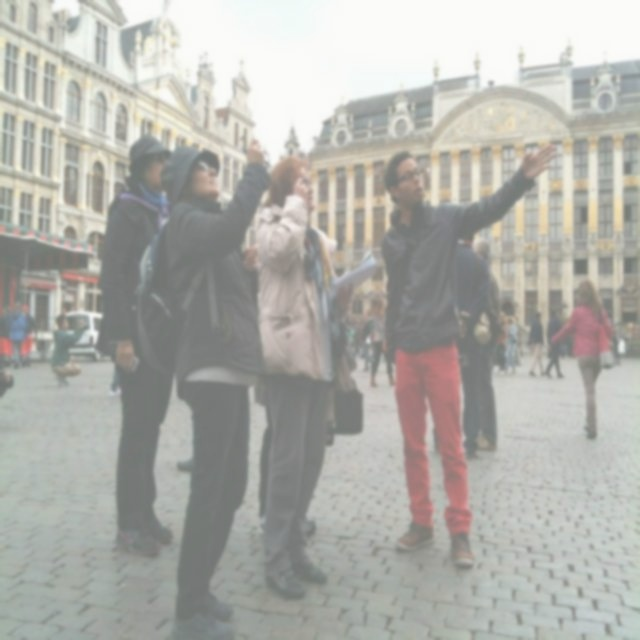pessoa: (378, 138, 560, 574), (126, 134, 275, 639), (254, 152, 356, 603), (94, 132, 177, 560), (550, 277, 618, 442), (454, 230, 492, 462), (471, 237, 502, 456), (249, 250, 268, 534), (47, 311, 88, 390), (366, 295, 399, 389), (544, 306, 567, 378), (7, 300, 30, 370), (525, 309, 547, 378), (359, 304, 376, 372), (0, 302, 17, 369), (342, 310, 365, 358), (20, 304, 36, 367), (0, 346, 16, 407), (503, 316, 518, 374), (496, 311, 508, 377), (102, 359, 122, 396), (174, 448, 197, 478), (609, 327, 627, 365), (303, 504, 317, 535), (514, 316, 522, 358)
